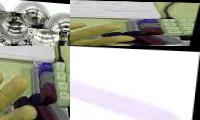ironball: (0, 10, 32, 44), (14, 0, 48, 28), (46, 10, 72, 36), (27, 27, 59, 46), (55, 39, 70, 46), (70, 44, 93, 45)
